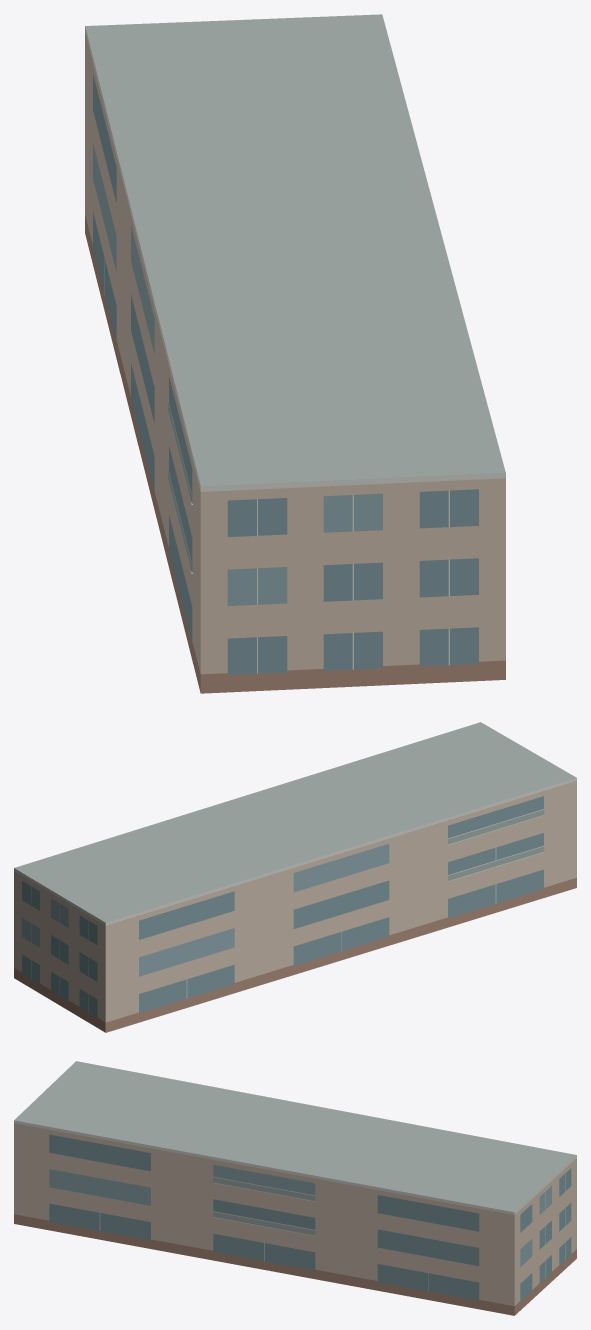
File: survey-upis-32748909.glb
3 renders of one model, top to bottom at view 1: azimuth 30°, elevation 25°; view 2: azimuth 150°, elevation 25°; view 3: azimuth 270°, elevation 25°, orthographic. The views are drawn at different scales.
Visible parts, largest first — view 1: survey-upis-32748909.tmp; view 2: survey-upis-32748909.tmp; view 3: survey-upis-32748909.tmp.
Part boxes in pixels (left/top/right/bottom): survey-upis-32748909.tmp: left=85, top=14, right=505, bottom=693; survey-upis-32748909.tmp: left=14, top=722, right=576, bottom=1032; survey-upis-32748909.tmp: left=14, top=1061, right=576, bottom=1315.
Size of the model in its own units: 28.68 by 9.15 by 45.1.
